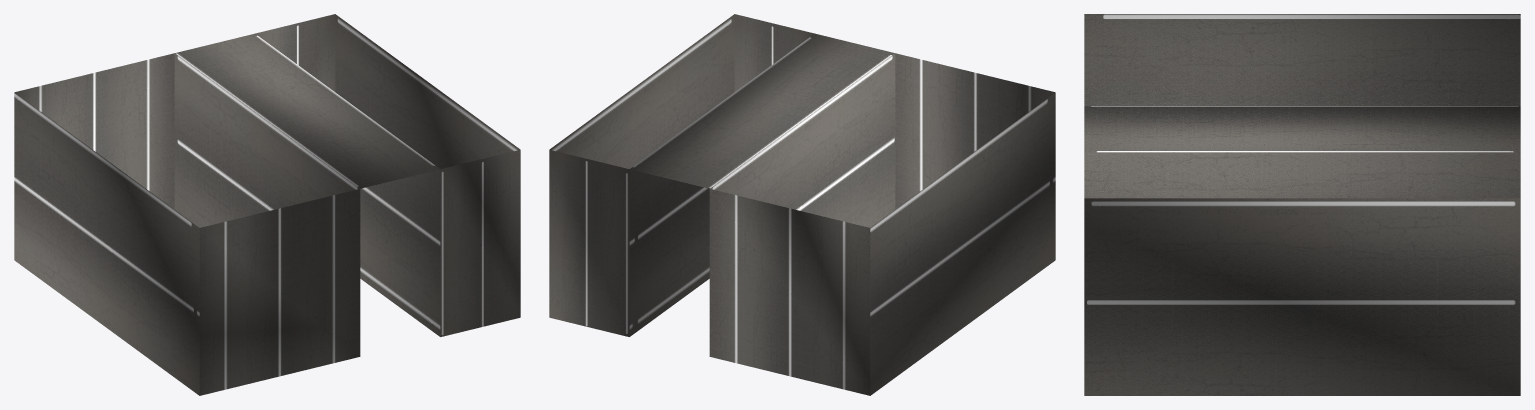
File: road.110.fbx
3 views of the same model, side by side, from view 1: azimuth 30°, elevation 25°; view 2: azimuth 150°, elevation 25°; view 3: azimuth 270°, elevation 25° (orthographic). The views are drawn at different scales.
Parts seen in each view (by area): view 1: road_010; view 2: road_010; view 3: road_010.
Part boxes in pixels (bbox=[...]): road_010: bbox=[14, 14, 520, 395]; road_010: bbox=[549, 14, 1055, 395]; road_010: bbox=[1084, 14, 1520, 395].
Bounding box in the file's own units: 8 × 4 × 8.
